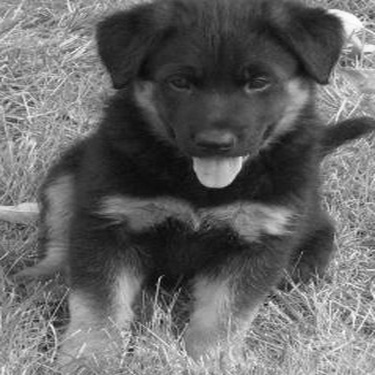dog: (11, 1, 370, 372)
